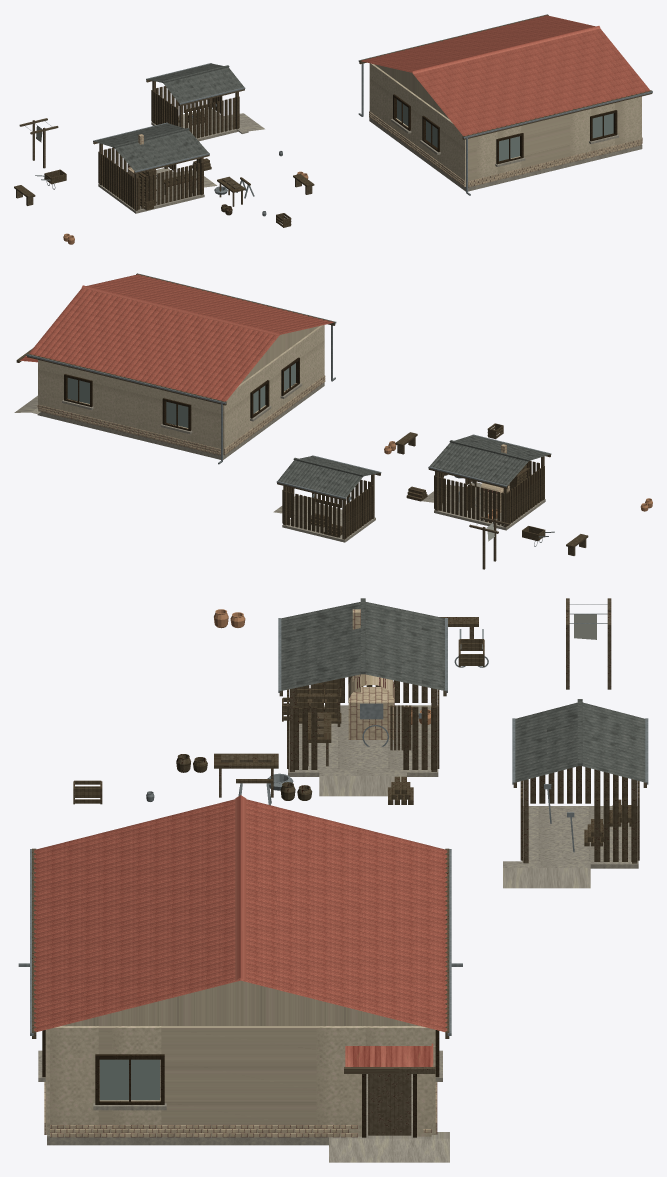
3 views of the same model, one above another, from view 1: azimuth 30°, elevation 25°; view 2: azimuth 150°, elevation 25°; view 3: azimuth 270°, elevation 25° (orthographic). The views are drawn at different scales.
Parts seen in each view (by area): view 1: H01_TELHAS, H01_LATERAIS, H01_FUNDOS, H01_FORNO_RIPAS, H01_FORNO_COBERTURA, H01_LENHEIRO_RIPAS, H01_LENHEIRO_COBERTURA, H01_EMBASAMENTO_TIJOLO, H01_VIDROS_RECUADOS, H01_FUNDACAO, H01_CAIXILHOS, H01_BEIRAIS (+6 smaller); view 2: H01_TELHAS, H01_LATERAIS, H01_FUNDOS, H01_FORNO_RIPAS, H01_LENHEIRO_RIPAS, H01_FORNO_COBERTURA, H01_LENHEIRO_COBERTURA, H01_EMBASAMENTO_TIJOLO, H01_VIDROS_RECUADOS, H01_CAIXILHOS, H01_FUNDACAO, H01_BEIRAIS (+5 smaller); view 3: H01_TELHAS, H01_FACHADA, H01_FORNO_COBERTURA, H01_OITOES, H01_LENHEIRO_COBERTURA, H01_LENHEIRO_RIPAS, H01_LENHEIRO_BASE, H01_FORNO_BASE, H01_EMBASAMENTO_TIJOLO, H01_FORNO_RIPAS, H01_RAMPA, H01_FUNDACAO (+11 smaller).
Boxes of the visible parts, x1,y1,x2,y2 form: H01_TELHAS: [361, 15, 649, 135]; H01_LATERAIS: [468, 96, 641, 181]; H01_FUNDOS: [369, 63, 465, 186]; H01_FORNO_RIPAS: [98, 147, 203, 209]; H01_FORNO_COBERTURA: [94, 123, 208, 170]; H01_LENHEIRO_RIPAS: [151, 86, 239, 138]; H01_LENHEIRO_COBERTURA: [147, 63, 243, 102]; H01_EMBASAMENTO_TIJOLO: [369, 111, 642, 187]; H01_VIDROS_RECUADOS: [397, 99, 613, 161]; H01_FUNDACAO: [369, 118, 642, 191]; H01_CAIXILHOS: [393, 94, 617, 164]; H01_BEIRAIS: [359, 14, 652, 139]; H01_TELHAS: [29, 274, 333, 401]; H01_LATERAIS: [38, 360, 220, 449]; H01_FUNDOS: [223, 325, 324, 454]; H01_FORNO_RIPAS: [434, 461, 544, 526]; H01_LENHEIRO_RIPAS: [282, 479, 373, 538]; H01_FORNO_COBERTURA: [429, 435, 549, 485]; H01_LENHEIRO_COBERTURA: [278, 456, 380, 497]; H01_EMBASAMENTO_TIJOLO: [37, 375, 325, 455]; H01_VIDROS_RECUADOS: [67, 363, 295, 427]; H01_CAIXILHOS: [64, 357, 299, 431]; H01_FUNDACAO: [37, 382, 324, 459]; H01_BEIRAIS: [27, 273, 335, 405]; H01_TELHAS: [34, 799, 447, 1031]; H01_FACHADA: [50, 1026, 431, 1136]; H01_FORNO_COBERTURA: [281, 602, 444, 690]; H01_OITOES: [62, 980, 419, 1025]; H01_LENHEIRO_COBERTURA: [515, 702, 645, 782]; H01_LENHEIRO_RIPAS: [520, 766, 639, 861]; H01_LENHEIRO_BASE: [522, 806, 638, 868]; H01_FORNO_BASE: [288, 705, 438, 776]; H01_EMBASAMENTO_TIJOLO: [44, 1082, 437, 1137]; H01_FORNO_RIPAS: [287, 676, 439, 769]; H01_RAMPA: [329, 1138, 449, 1162]; H01_FUNDACAO: [47, 1059, 412, 1145].
Size of the model in its own units: 30.45 by 4.58 by 15.08.
Materials: 13 (10 with a texture image).
